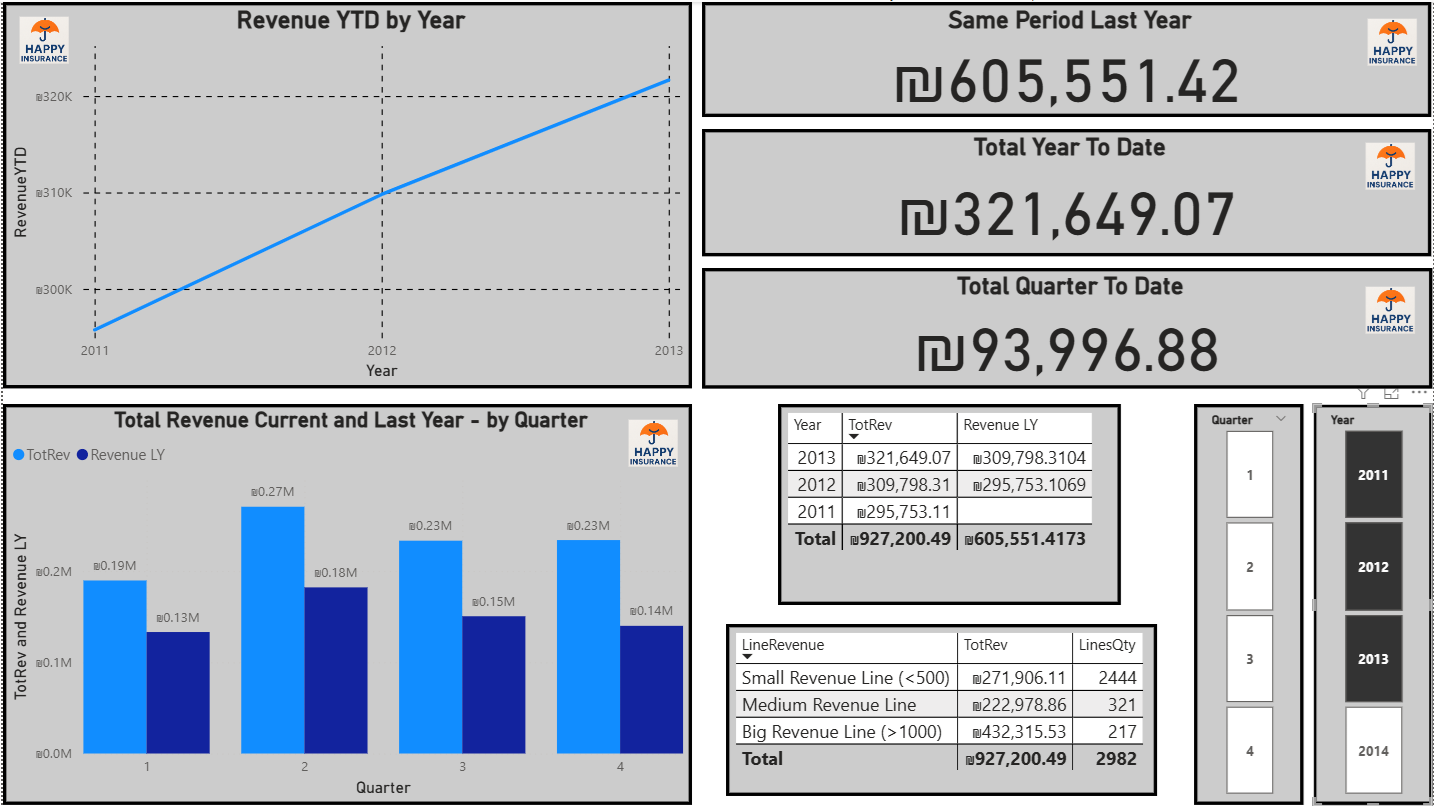

What the dashboard file says about the page in this screenshot:
{"tool":"powerbi","page":{"name":"Revenue by Periods","canvas":[1280,720],"ordinal":3},"visuals":[{"type":"tableEx","fields":{"Values":["Sales.LineRevenue","Sales.TotRev","Sales.LinesQty"]},"box":[647.6,557.3,385.7,154.3],"z":0},{"type":"lineChart","title":"Revenue YTD by Year","fields":{"Category":["Date.Year"],"Y":["MeasuresTable.RevenueYTD"]},"box":[0,0,617.2,346.1],"z":1000},{"type":"clusteredColumnChart","title":"Total Revenue Current and Last Year - by Quarter","fields":{"Category":["Date.Quarter"],"Y":["MeasuresTable.TotRev","MeasuresTable.Revenue LY"]},"box":[0,360.3,617.2,359.3],"z":2000},{"type":"slicer","fields":{"Values":["Date.Quarter"]},"box":[1066.8,360.3,98.5,359.3],"z":3000},{"type":"slicer","fields":{"Values":["Date.Year"]},"box":[1173.4,360.3,106.6,359.3],"z":4000},{"type":"tableEx","fields":{"Values":["Date.Year","MeasuresTable.TotRev","MeasuresTable.Revenue LY"]},"box":[694.3,360.3,306.6,179.7],"z":5000},{"type":"card","title":"Same Period Last Year","fields":{"Values":["MeasuresTable.SamePeriodLastYear"]},"box":[626.3,0,652.7,102.5],"z":6000},{"type":"card","title":"Total Year To Date","fields":{"Values":["MeasuresTable.TotalYTD"]},"box":[626.3,113.7,652.7,113.7],"z":7000},{"type":"card","title":"Total Quarter To Date","fields":{"Values":["MeasuresTable.TotalQTD"]},"box":[626.3,238.5,653.7,107.6],"z":8000},{"type":"image","box":[10.2,7.1,53.8,53.8],"z":9000},{"type":"image","box":[555.2,368.5,53.8,53.8],"z":10000},{"type":"image","box":[1215,248.7,53.8,53.8],"z":11000},{"type":"image","box":[1215,119.8,53.8,53.8],"z":12000},{"type":"image","box":[1216.8,8.8,54.5,54.5],"z":13000}]}

Visuals, with their boxes in screenshot pixels (x1, y1, x2, y2), scaled from the page's 1280x720 canvas onto the 1434x806 screenshot:
tableEx - Sales.LineRevenue x Sales.TotRev: [left=726, top=624, right=1158, bottom=797]
"Revenue YTD by Year" lineChart: [left=0, top=0, right=691, bottom=387]
"Total Revenue Current and Last Year - by Quarter" clusteredColumnChart: [left=0, top=403, right=691, bottom=805]
slicer - Date.Quarter: [left=1195, top=403, right=1306, bottom=805]
slicer - Date.Year: [left=1315, top=403, right=1433, bottom=805]
tableEx - Date.Year x MeasuresTable.TotRev: [left=778, top=403, right=1121, bottom=604]
"Same Period Last Year" card: [left=702, top=0, right=1433, bottom=115]
"Total Year To Date" card: [left=702, top=127, right=1433, bottom=255]
"Total Quarter To Date" card: [left=702, top=267, right=1433, bottom=387]
image: [left=11, top=8, right=72, bottom=68]
image: [left=622, top=413, right=682, bottom=473]
image: [left=1361, top=278, right=1421, bottom=339]
image: [left=1361, top=134, right=1421, bottom=194]
image: [left=1363, top=10, right=1424, bottom=71]
